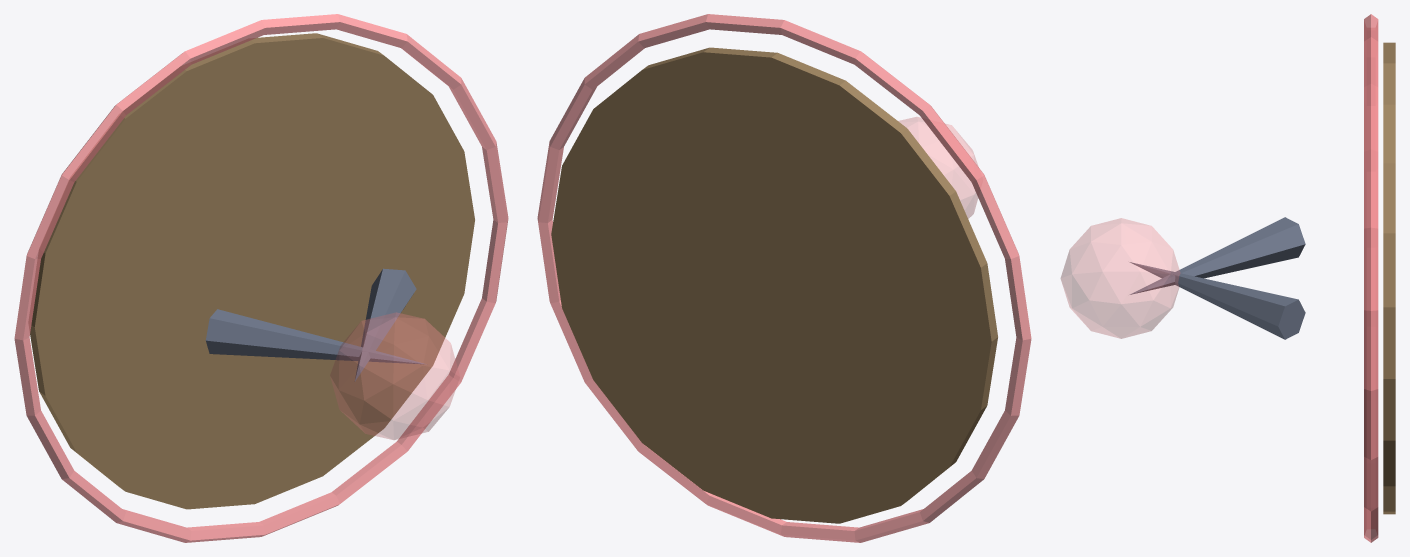
File: 07_weather_terrain_nature_effect.glb
3 views of the same model, side by side, from view 1: azimuth 30°, elevation 25°; view 2: azimuth 150°, elevation 25°; view 3: azimuth 270°, elevation 25° (orthographic). The views are drawn at different scales.
Parts seen in each view (by area): view 1: terrain_patch, weather_boundary, weather_orb, root_spike_l, root_spike_r; view 2: terrain_patch, weather_boundary, weather_orb; view 3: weather_orb, weather_boundary, terrain_patch, root_spike_r, root_spike_l.
Boxes of the visible parts, bbox=[...] form: terrain_patch: bbox=[29, 33, 474, 509]; weather_boundary: bbox=[14, 14, 508, 542]; weather_orb: bbox=[330, 312, 459, 439]; root_spike_l: bbox=[205, 309, 425, 364]; root_spike_r: bbox=[354, 268, 416, 381]; terrain_patch: bbox=[551, 47, 997, 523]; weather_boundary: bbox=[537, 14, 1031, 542]; weather_orb: bbox=[898, 117, 978, 218]; weather_orb: bbox=[1060, 218, 1180, 338]; weather_boundary: bbox=[1364, 14, 1378, 542]; terrain_patch: bbox=[1383, 42, 1395, 514]; root_spike_r: bbox=[1130, 262, 1305, 339]; root_spike_l: bbox=[1130, 217, 1305, 294].
Size of the model in its own units: 1.75 by 1.75 by 1.1.
